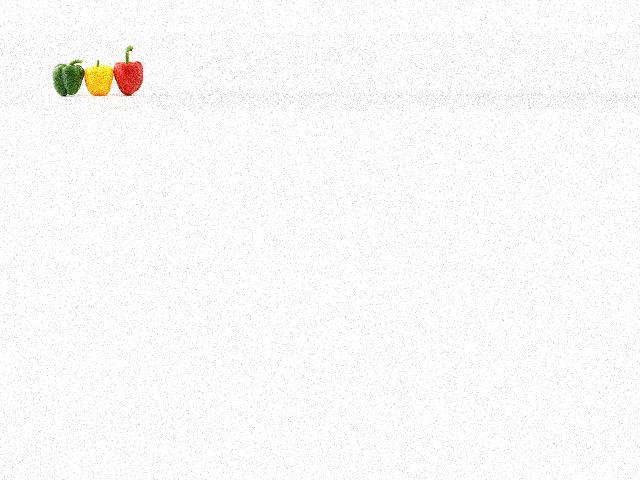bell_pepper: (110, 42, 151, 100)
